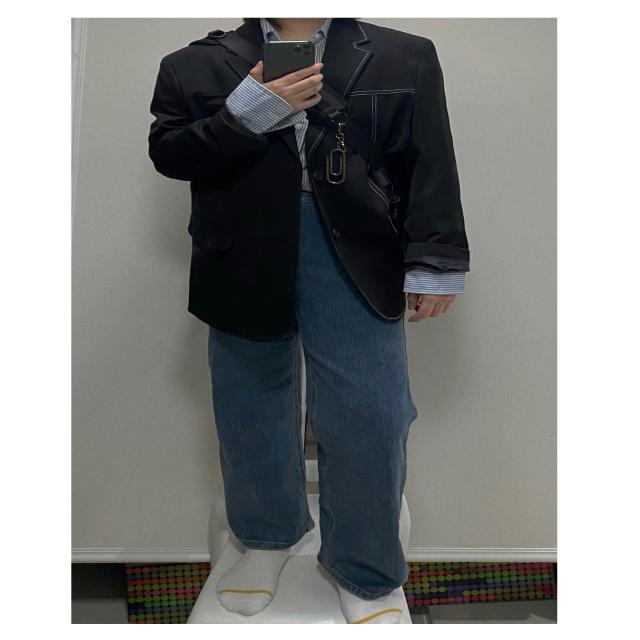blazer: (146, 18, 470, 344)
denimpants: (204, 188, 421, 601)
